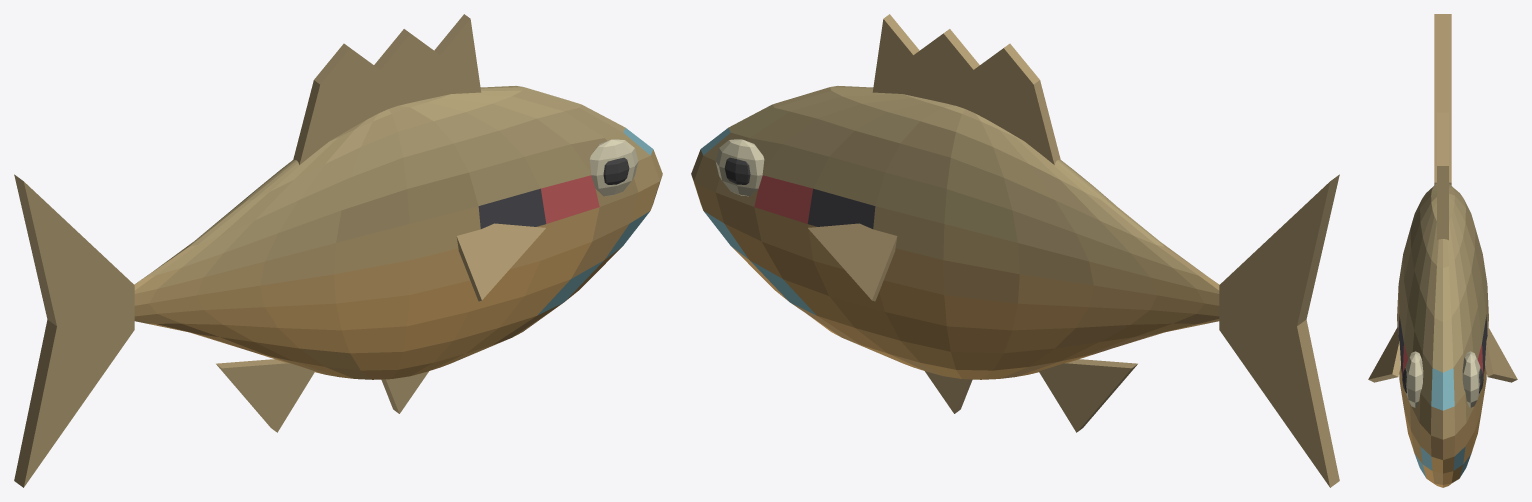
Rendered from Pumpkinseed.glb.
3 renders of one model, left to right at view 1: azimuth 30°, elevation 25°; view 2: azimuth 150°, elevation 25°; view 3: azimuth 270°, elevation 25°, orthographic. The views are drawn at different scales.
Parts seen in each view (by area): view 1: Pumpkinseed; view 2: Pumpkinseed; view 3: Pumpkinseed.
Boxes of the visible parts, x1=… form: Pumpkinseed: x1=14, y1=14, x2=662, y2=487; Pumpkinseed: x1=691, y1=14, x2=1339, y2=487; Pumpkinseed: x1=1368, y1=14, x2=1517, y2=487.
Size of the model in its own units: 1.55 by 0.868 by 0.3421.
